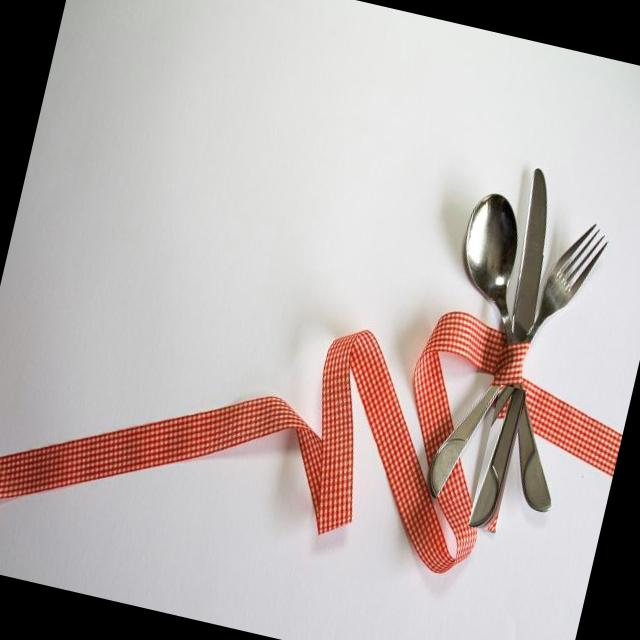Knife: (469, 389, 525, 526), (512, 169, 546, 341)
